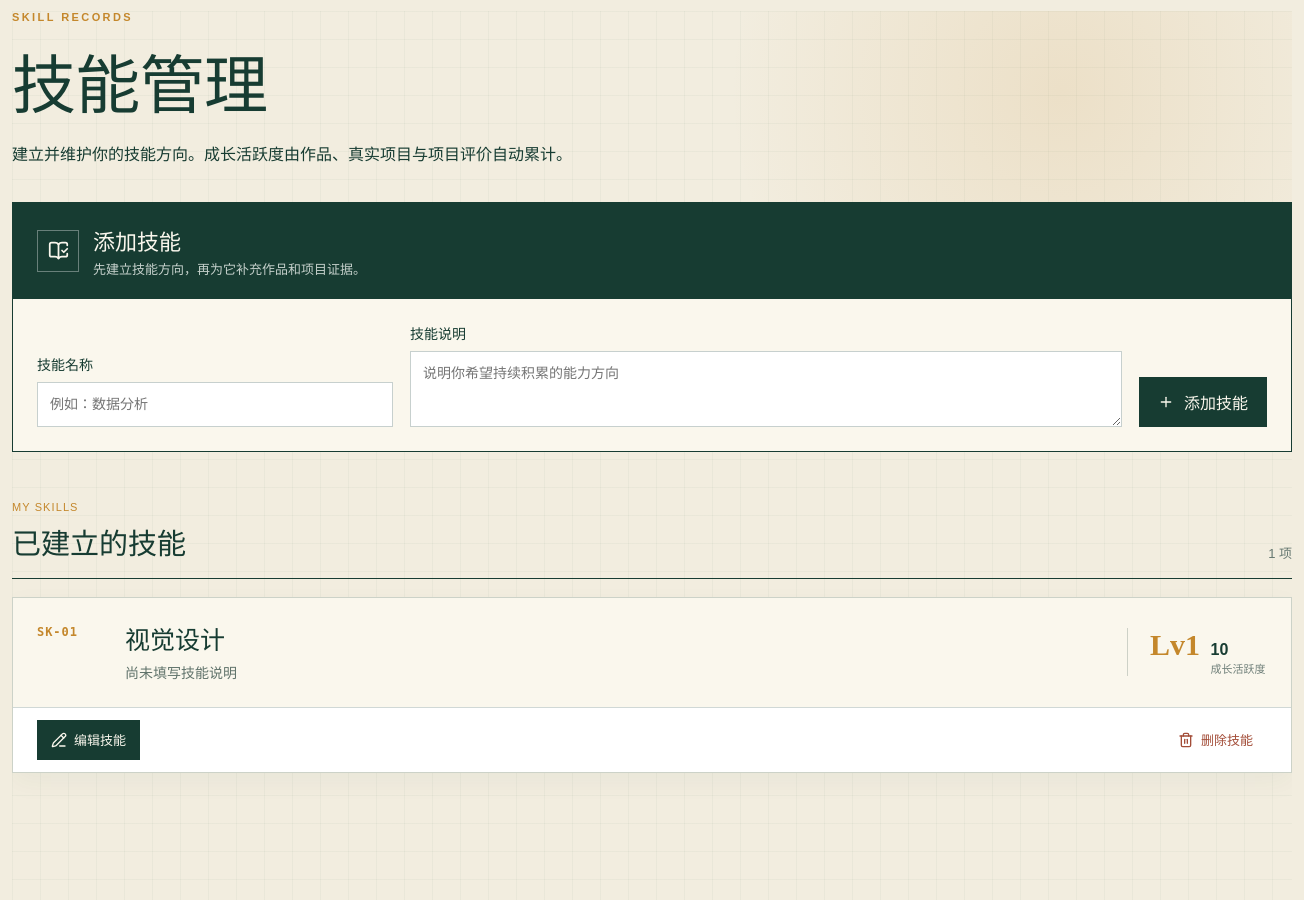
Test: shows why a skill linked to evidence cannot be deleted
The image size is (1304, 900).
Click the button "删除技能" at coordinates (1216, 740), box [1164,720,1267,760]
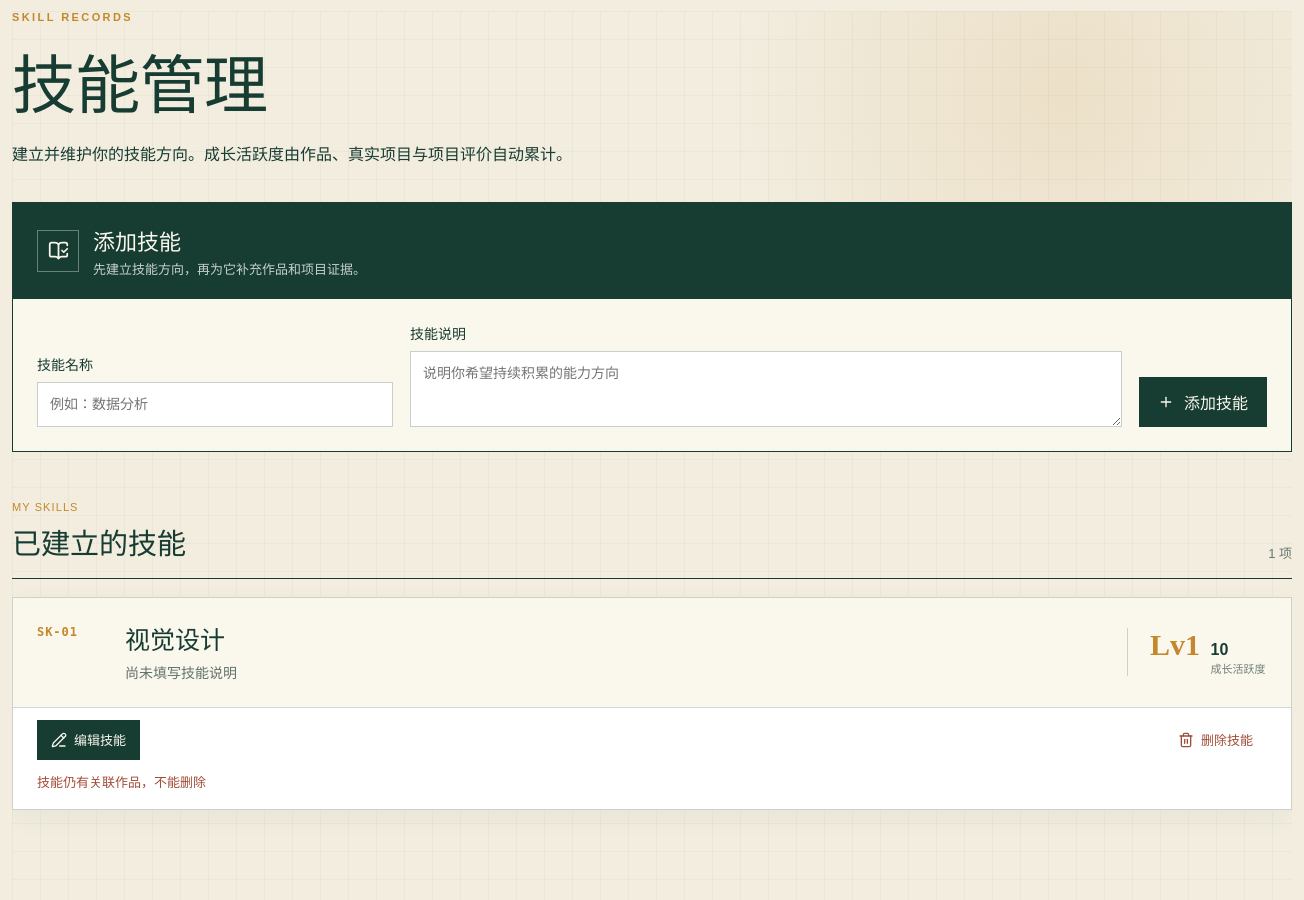
Expected: the heading "视觉设计" is shown, [125,627,225,654]
Expected: the message reads "技能仍有关联作品，不能删除", [37,775,206,790]
